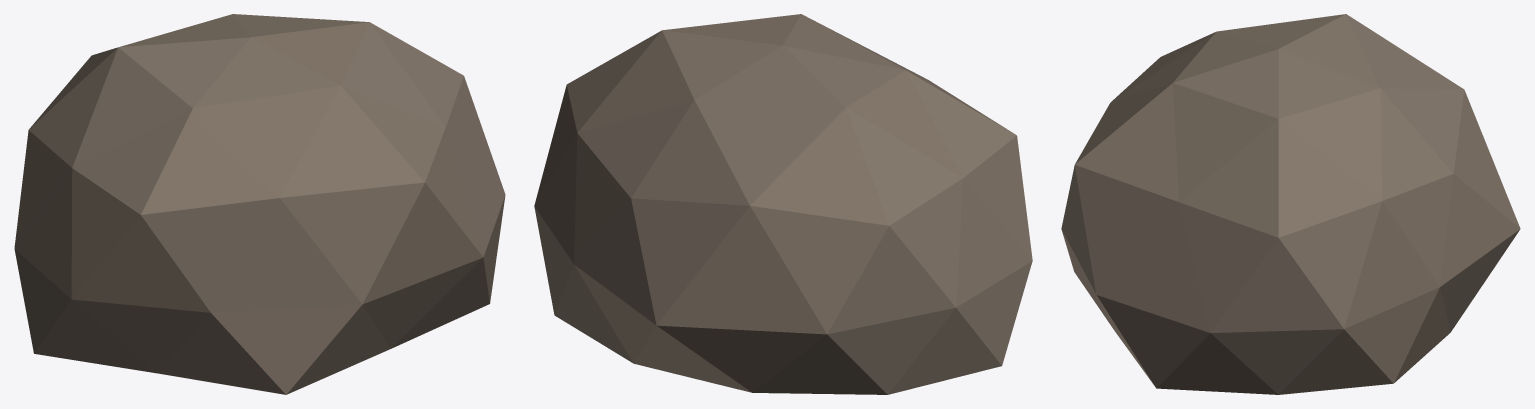
The model's file is rock.obj.
3 views of the same model, side by side, from view 1: azimuth 30°, elevation 25°; view 2: azimuth 150°, elevation 25°; view 3: azimuth 270°, elevation 25° (orthographic). The views are drawn at different scales.
Parts seen in each view (by area): view 1: rock; view 2: rock; view 3: rock.
Part boxes in pixels (left/top/right/bottom): rock: left=14, top=14, right=505, bottom=394; rock: left=534, top=14, right=1032, bottom=394; rock: left=1061, top=14, right=1520, bottom=394.
Size of the model in its own units: 0.9336 by 0.5388 by 0.876.
